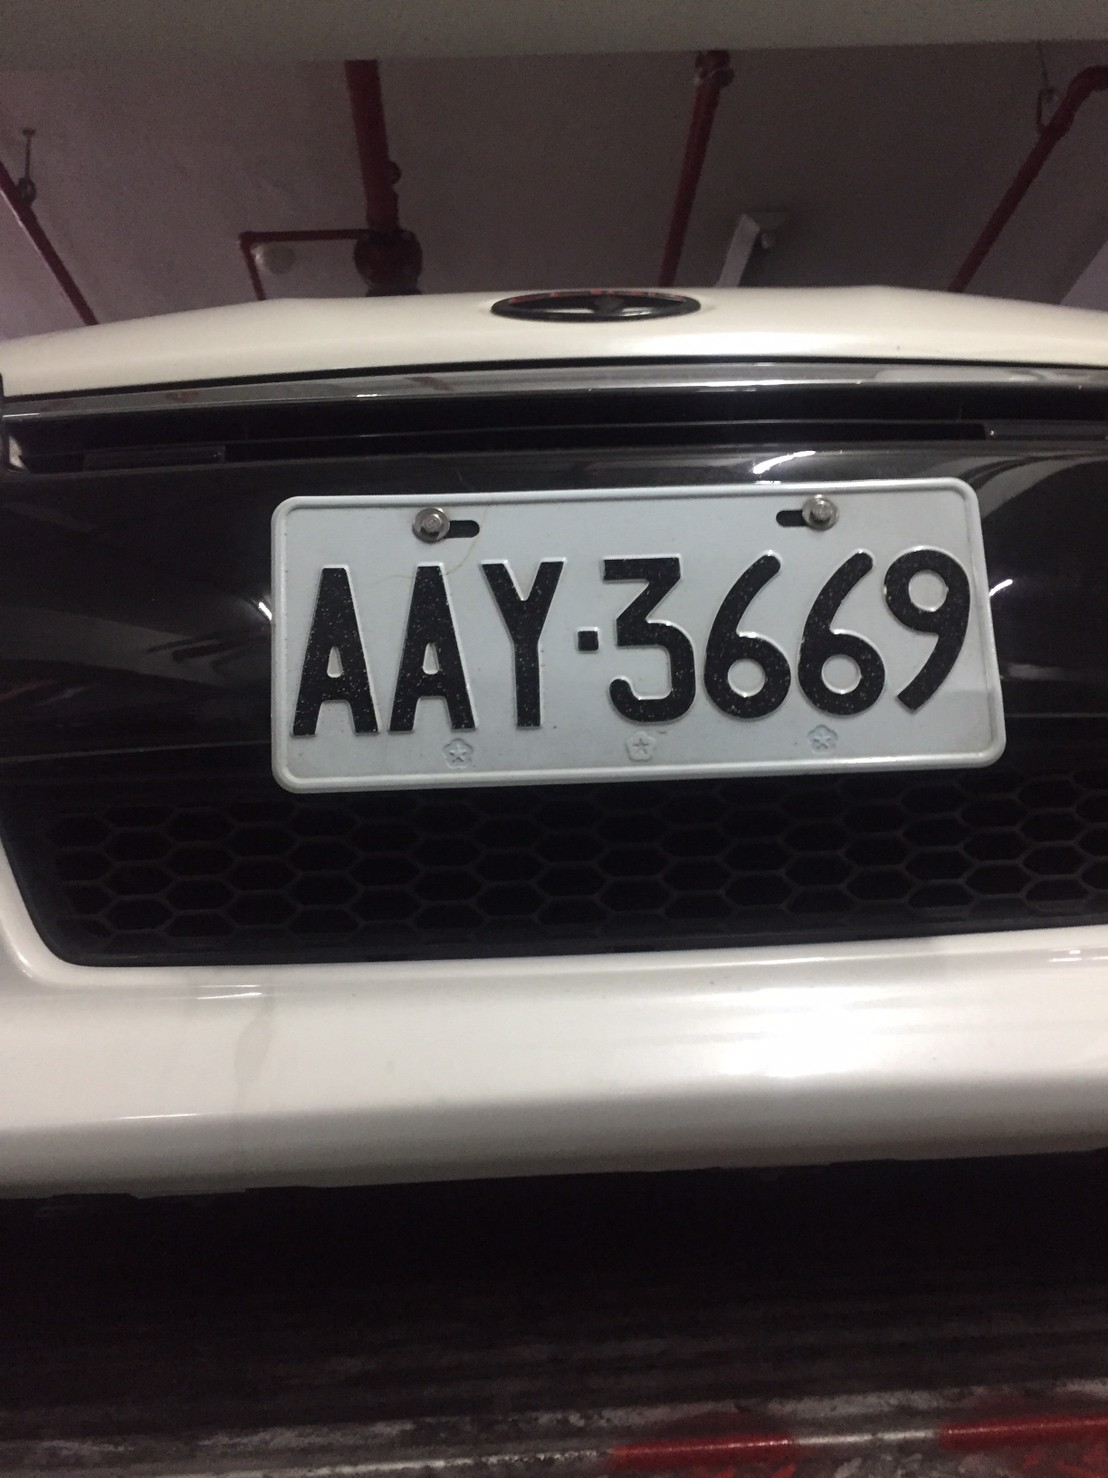LP: (267, 485, 996, 781)
